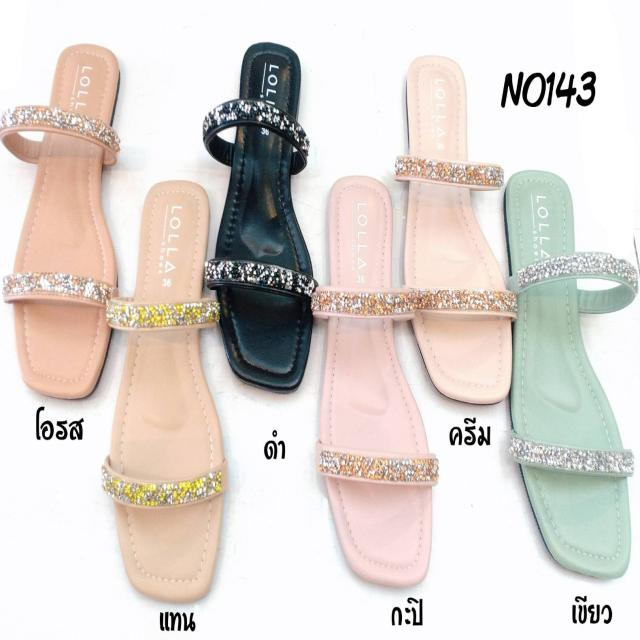black: (214, 39, 316, 385)
cream: (405, 56, 519, 406)
green: (500, 168, 634, 582)
kapi: (318, 177, 436, 592)
orot: (17, 44, 123, 392)
tan: (106, 177, 225, 602)
